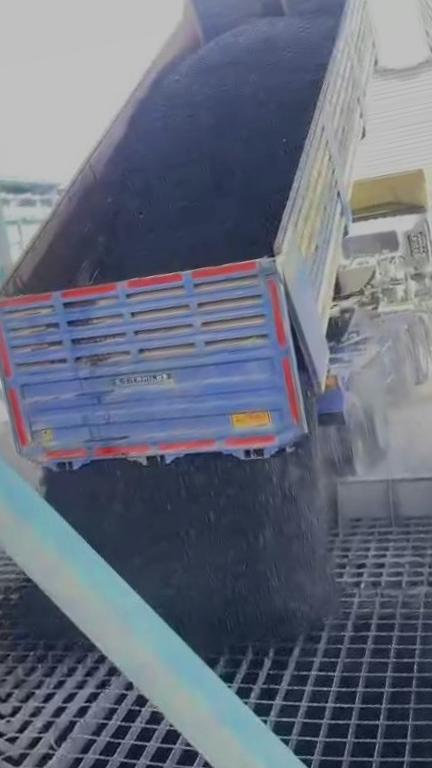gravel: (91, 0, 335, 281), (43, 441, 337, 652), (15, 585, 80, 641)
